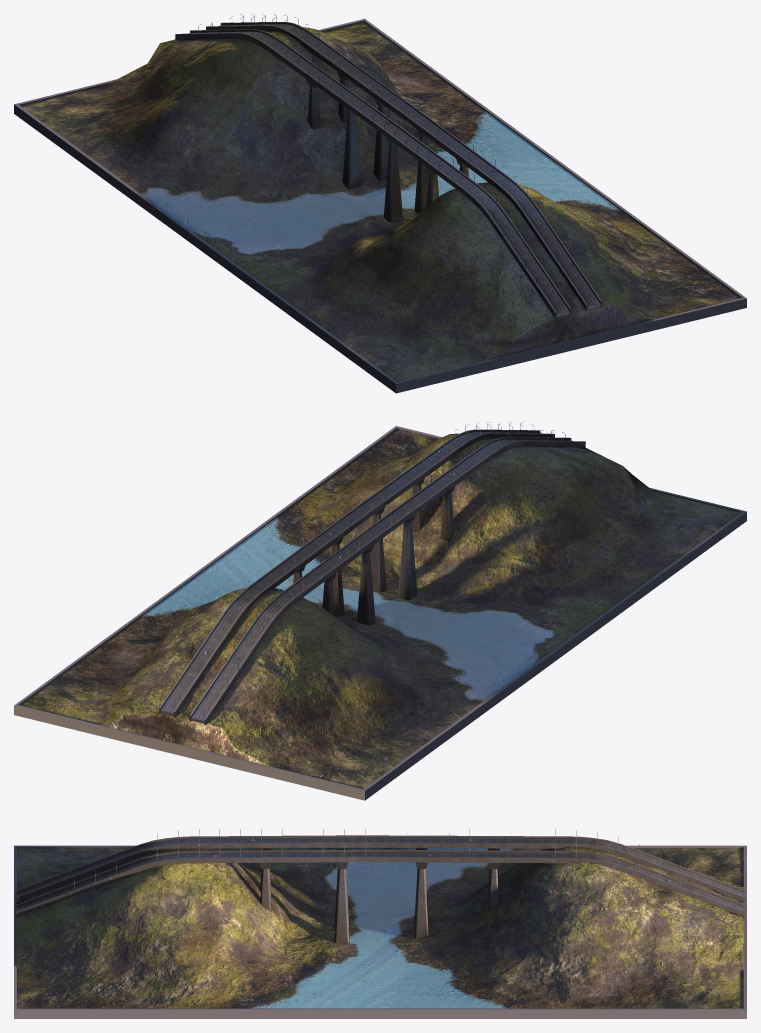
The model's file is montagna2.dae.
The picture shows the model from 3 angles, top to bottom: view 1: azimuth 30°, elevation 25°; view 2: azimuth 150°, elevation 25°; view 3: azimuth 270°, elevation 25°; orthographic projection. The views are drawn at different scales.
Parts seen in each view (by area): view 1: montagna, ponte, cestino; view 2: montagna, ponte, cestino; view 3: montagna, ponte, cestino, palo_macchina.
Part boxes in pixels (<box>): montagna: <box>20,21,740,381</box>; ponte: <box>175,22,602,318</box>; cestino: <box>14,18,746,393</box>; montagna: <box>20,429,740,788</box>; ponte: <box>159,429,585,724</box>; cestino: <box>14,426,746,800</box>; montagna: <box>16,847,743,1008</box>; ponte: <box>15,835,744,942</box>; cestino: <box>14,845,746,1018</box>; palo_macchina: <box>53,839,701,895</box>.
Size of the model in its own units: 789 by 229 by 1487.
Materials: 5 (5 with a texture image).
